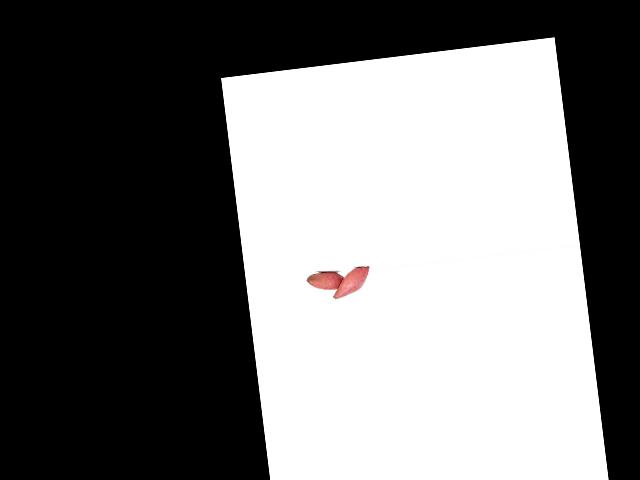sweet_potato: (304, 269, 348, 295)
